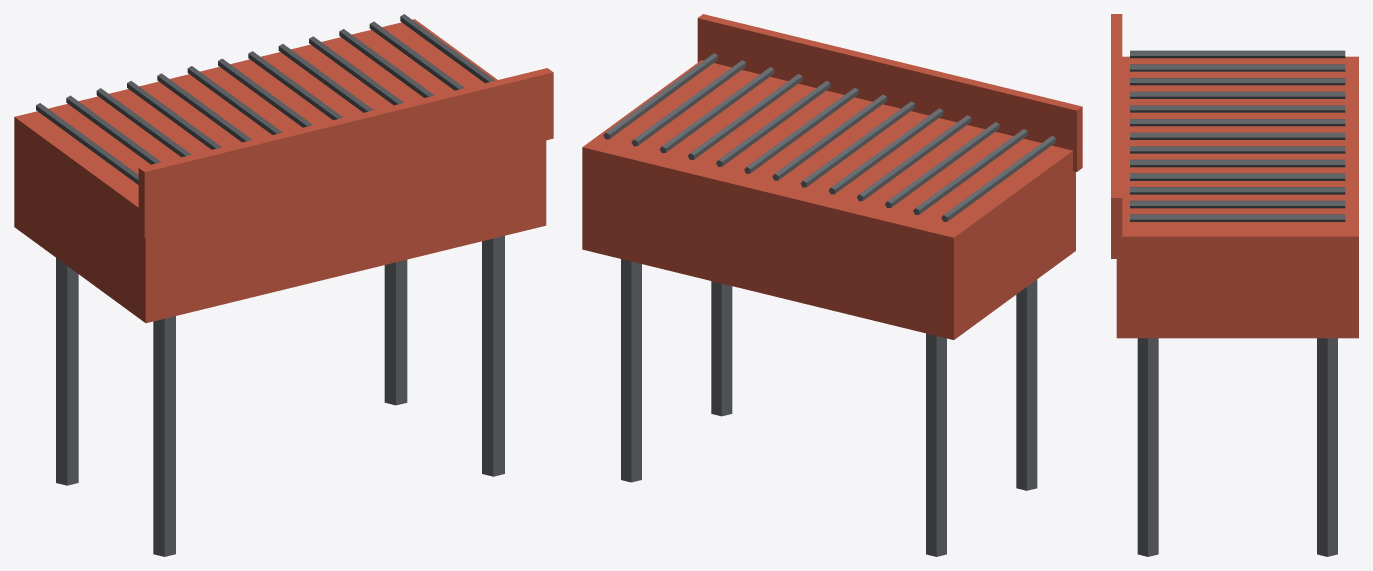
The model's file is Grill.fbx.
3 renders of one model, left to right at view 1: azimuth 30°, elevation 25°; view 2: azimuth 150°, elevation 25°; view 3: azimuth 270°, elevation 25°, orthographic. The views are drawn at different scales.
Visible parts, largest first — view 1: FireBox, BackLip, Leg-0.39_0.2, Leg0.39_0.2, Leg0.39_-0.2, Leg-0.39_-0.2, Grate12, Grate1, Grate10, Grate2, Grate4, Grate7 (+7 smaller); view 2: FireBox, BackLip, Leg0.39_-0.2, Leg-0.39_-0.2, Leg0.39_0.2, Leg-0.39_0.2, Grate8, Grate9, Grate2, Grate0, Grate10, Grate12 (+7 smaller); view 3: FireBox, Leg-0.39_0.2, Leg-0.39_-0.2, BackLip, Grate1, Grate12, Grate4, Grate0, Grate11, Grate2, Grate3, Grate5 (+5 smaller).
Boxes of the visible parts, x1,y1,x2,y2 form: FireBox: (14,19,546,323); BackLip: (138,68,553,238); Leg-0.39_0.2: (482,236,504,476); Leg0.39_0.2: (153,316,175,556); Leg0.39_-0.2: (56,258,78,485); Leg-0.39_-0.2: (384,259,407,405); Grate12: (36,103,138,184); Grate1: (369,21,464,90); Grate10: (96,88,191,157); Grate2: (339,29,434,97); Grate4: (278,44,373,112); Grate7: (187,66,282,134); FireBox: (582,60,1075,339); BackLip: (697,14,1082,171); Leg0.39_-0.2: (926,333,946,556); Leg-0.39_-0.2: (621,259,641,482); Leg0.39_0.2: (1016,279,1037,490); Leg-0.39_0.2: (711,281,732,416); Grate8: (828,108,943,194); Grate9: (856,115,971,201); Grate2: (659,67,774,153); Grate0: (603,53,717,139); Grate10: (885,122,999,208); Grate12: (941,136,1055,221); FireBox: (1116,56,1358,338); Leg-0.39_0.2: (1137,338,1158,556); Leg-0.39_-0.2: (1317,338,1337,556); BackLip: (1111,14,1122,258); Grate1: (1130,200,1345,208); Grate12: (1130,50,1345,58); Grate4: (1130,159,1345,167); Grate0: (1130,214,1345,221); Grate11: (1130,64,1345,71); Grate2: (1130,187,1345,194); Grate3: (1130,173,1345,180); Grate5: (1130,146,1345,153).
Size of the model in its own units: 0.97 by 0.915 by 0.5525.
